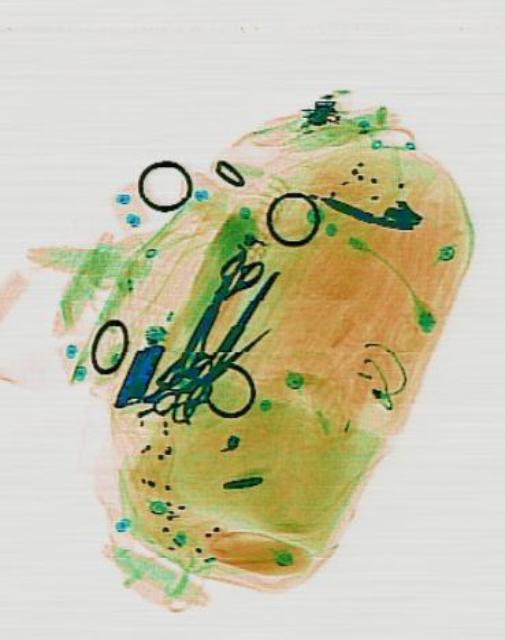Scissors: (161, 251, 310, 454), (180, 239, 265, 353)
